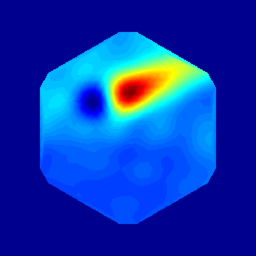ship: (79, 84, 116, 115)
wave: (105, 65, 185, 108)
